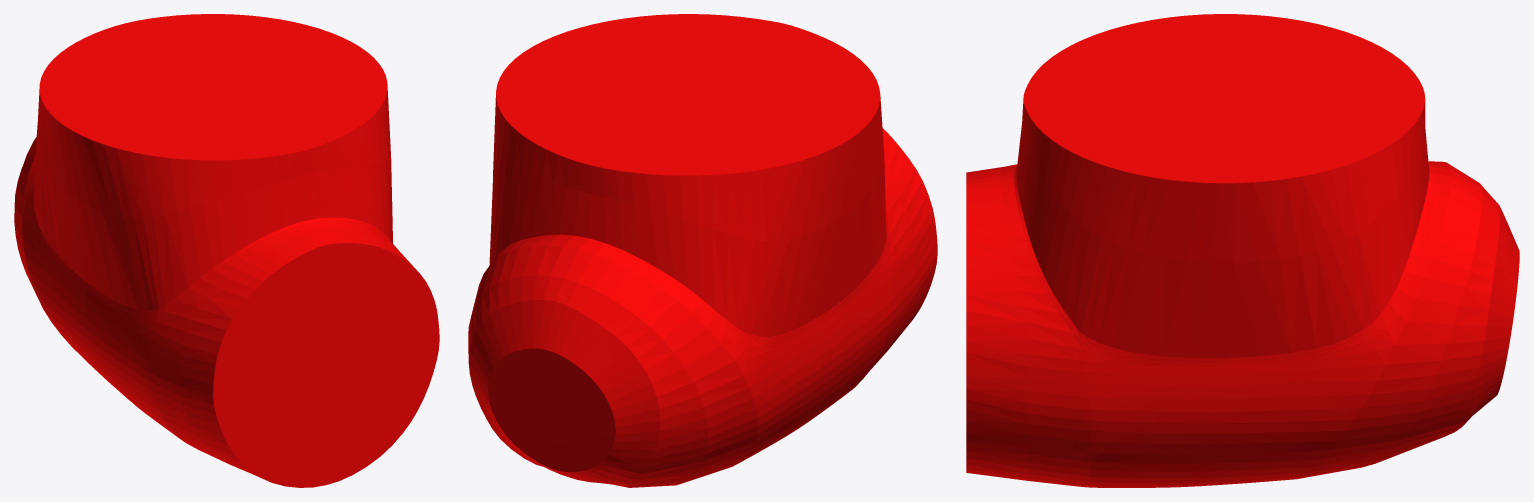
3 views of the same model, side by side, from view 1: azimuth 30°, elevation 25°; view 2: azimuth 150°, elevation 25°; view 3: azimuth 270°, elevation 25° (orthographic). The views are drawn at different scales.
Parts seen in each view (by area): view 1: MF0609_3_0; view 2: MF0609_3_0; view 3: MF0609_3_0.
Boxes of the visible parts, <box> form: MF0609_3_0: <box>14,14,439,487</box>; MF0609_3_0: <box>468,14,937,487</box>; MF0609_3_0: <box>966,14,1519,487</box>.
Bounding box in the file's own units: 131 × 180 × 134.
